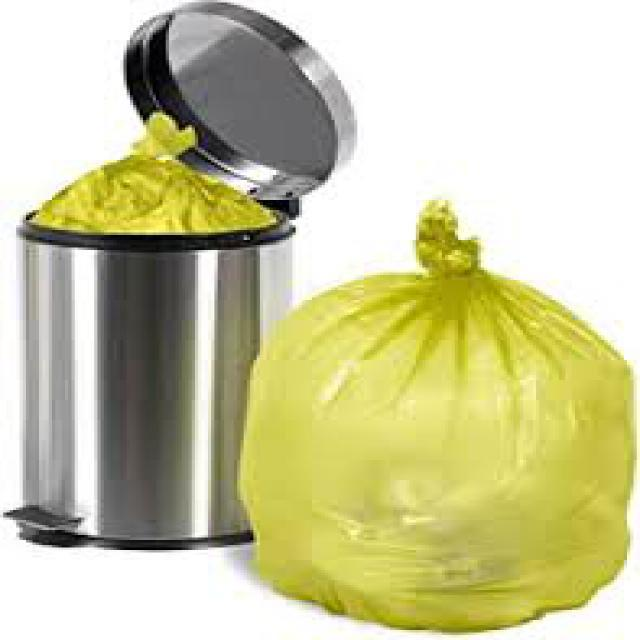waste: (248, 202, 634, 634), (35, 110, 276, 236)
